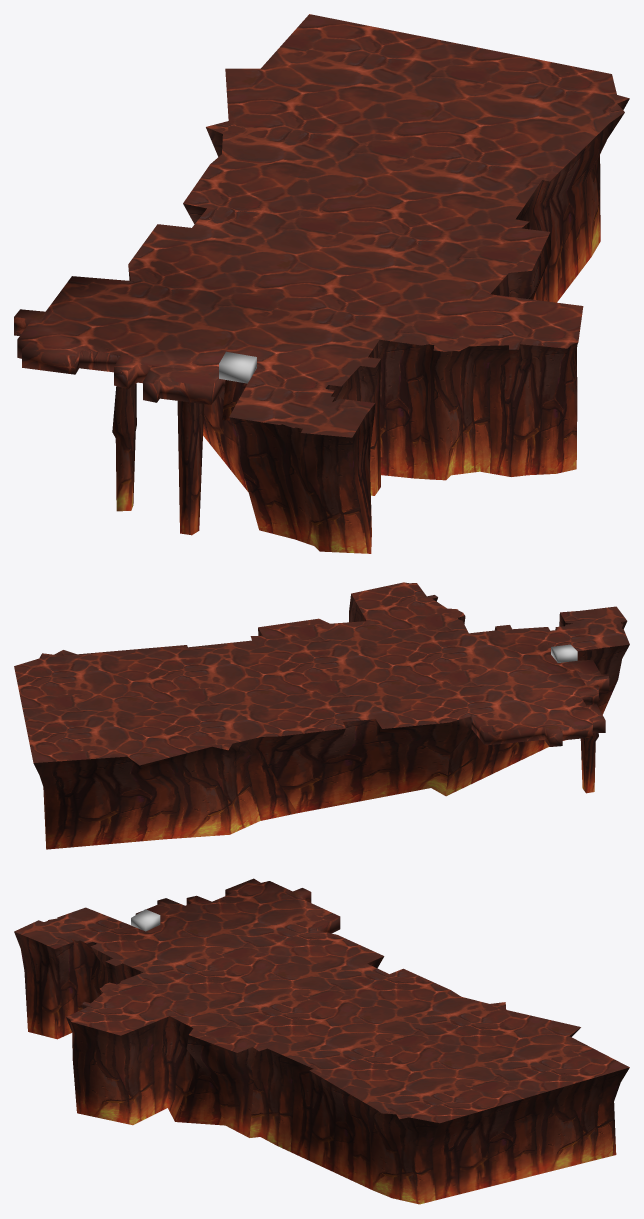
Rendered from terrain08.FBX.
The picture shows the model from 3 angles, top to bottom: view 1: azimuth 30°, elevation 25°; view 2: azimuth 150°, elevation 25°; view 3: azimuth 270°, elevation 25°; orthographic projection. The views are drawn at different scales.
Parts seen in each view (by area): view 1: terrain08; view 2: terrain08; view 3: terrain08.
Boxes of the visible parts, bbox=[...] form: terrain08: bbox=[14, 14, 629, 553]; terrain08: bbox=[14, 582, 629, 849]; terrain08: bbox=[14, 878, 629, 1204].
Size of the model in its own units: 4741 by 5042 by 1051.
